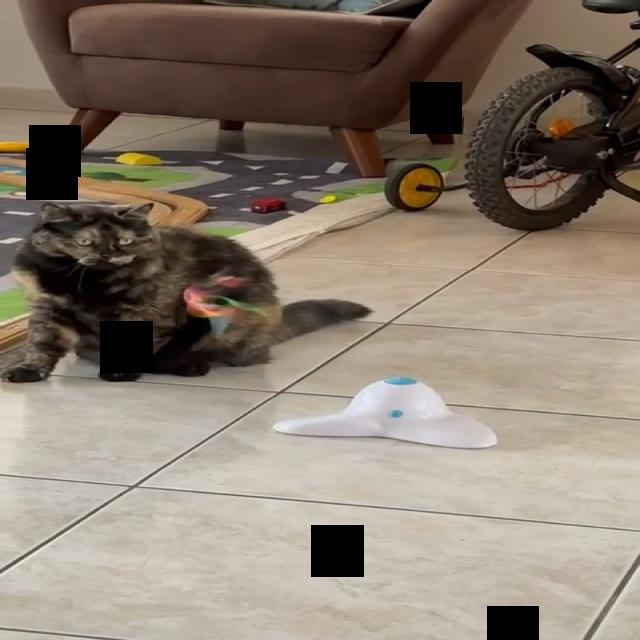authorized: (4, 200, 372, 382)
